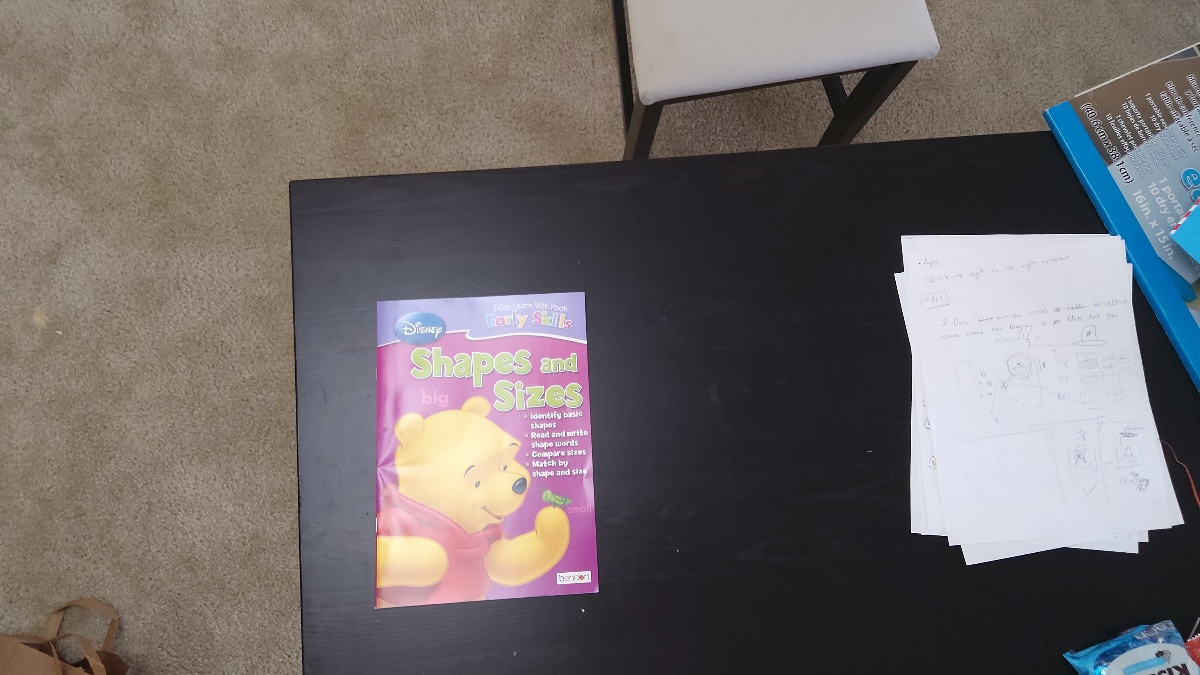book: (379, 300, 586, 595)
